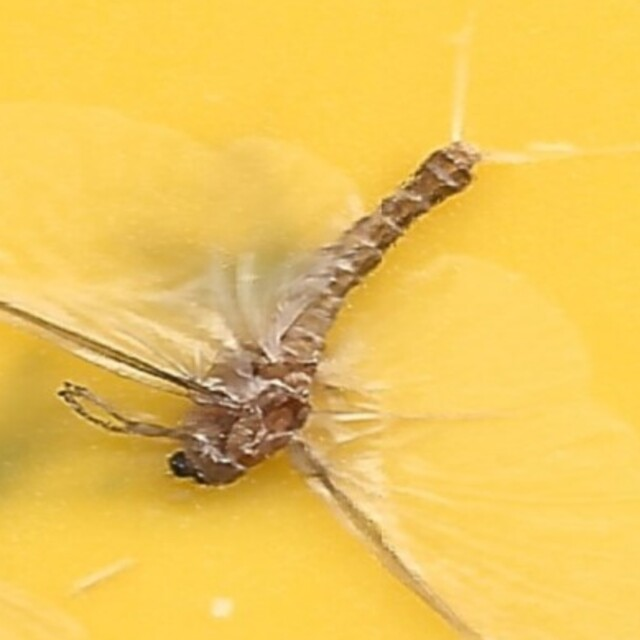Ephemeroptera: (165, 141, 475, 499)
